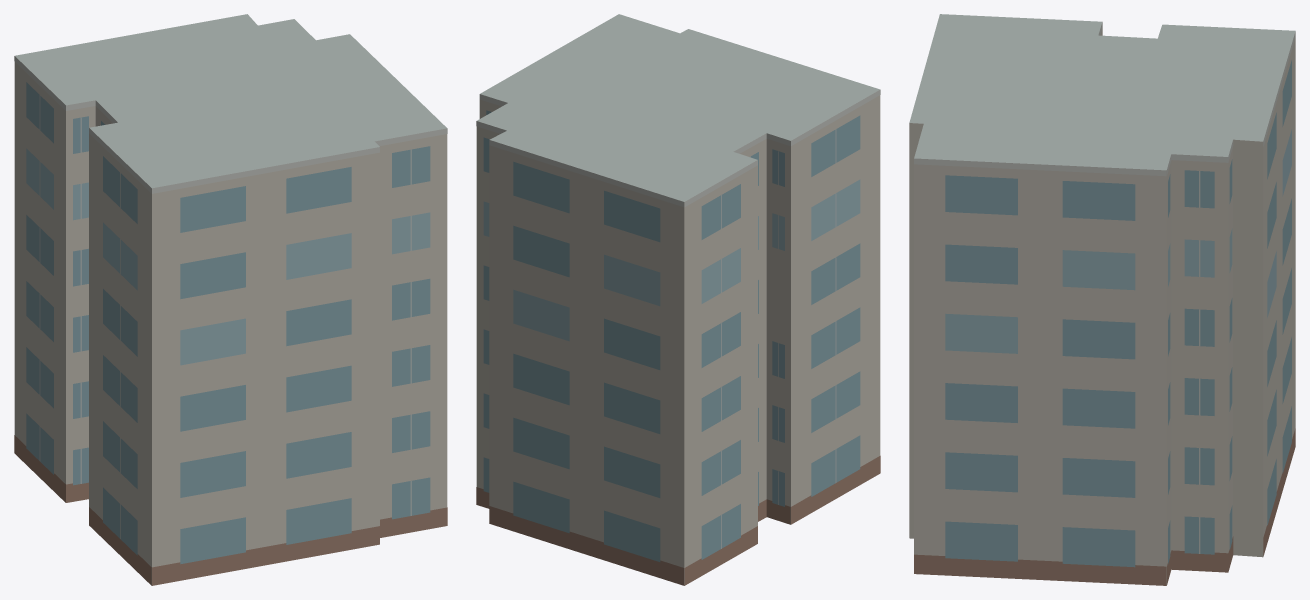
The model's file is survey-upis-32996586.glb.
3 renders of one model, left to right at view 1: azimuth 30°, elevation 25°; view 2: azimuth 150°, elevation 25°; view 3: azimuth 270°, elevation 25°, orthographic. The views are drawn at different scales.
Visible parts, largest first — view 1: survey-upis-32996586.tmp; view 2: survey-upis-32996586.tmp; view 3: survey-upis-32996586.tmp.
Boxes of the visible parts, x1,y1,x2,y2 form: survey-upis-32996586.tmp: (14,14,447,585); survey-upis-32996586.tmp: (476,14,880,585); survey-upis-32996586.tmp: (909,14,1295,585).
Bounding box in the file's own units: 13.93 × 17.25 × 14.55.
